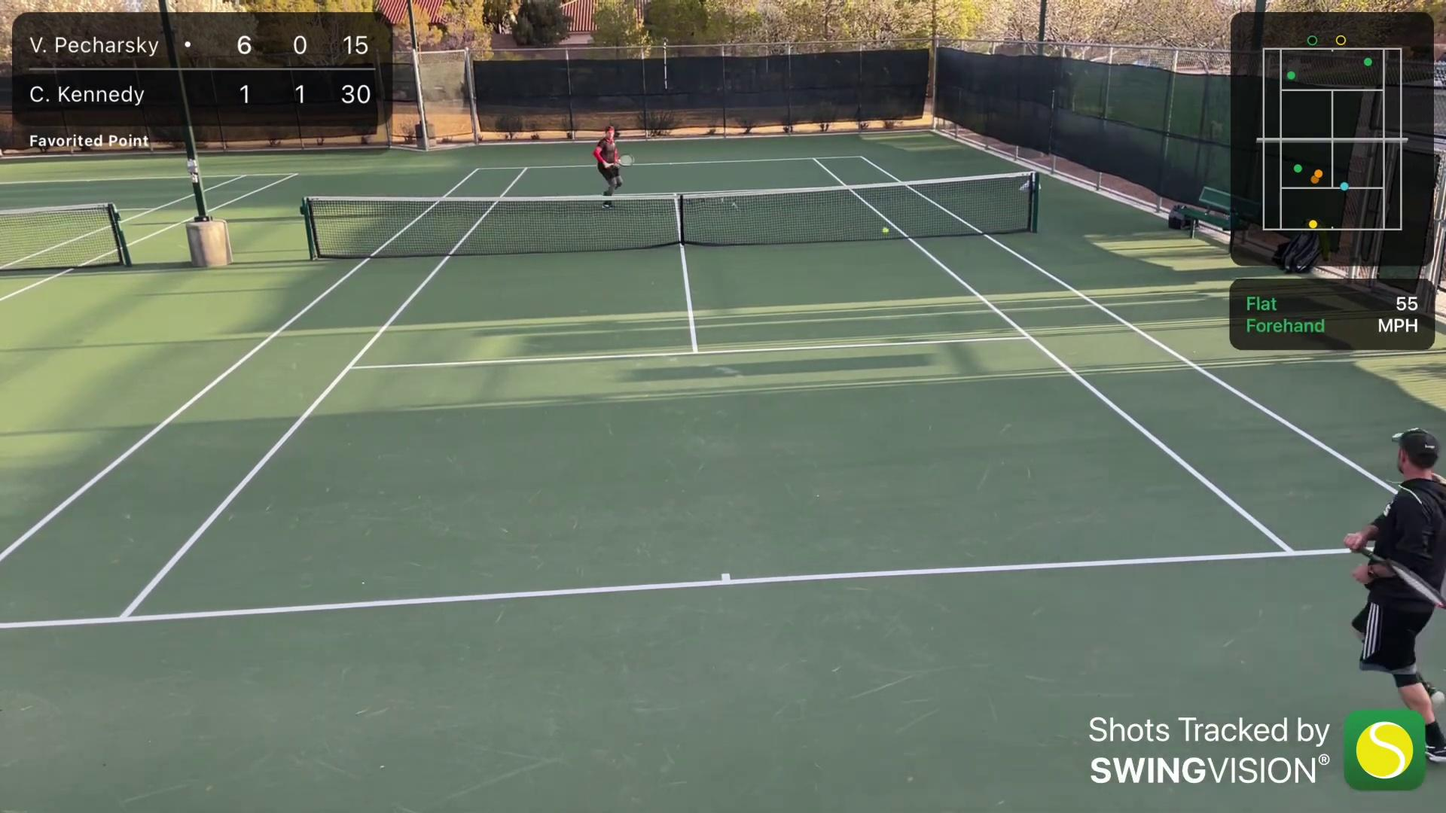ball: (880, 226, 887, 233)
